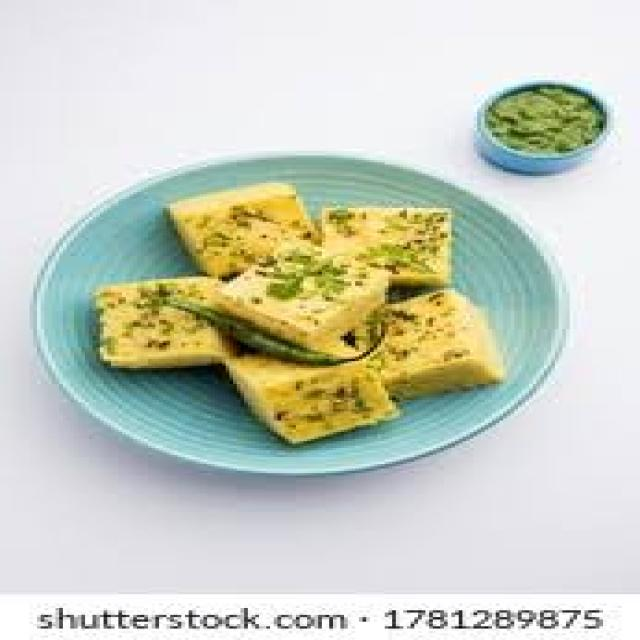DHOKLA: (101, 176, 511, 447)
